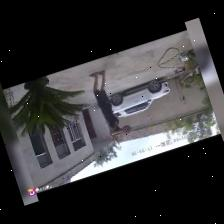person: (90, 70, 127, 133)
